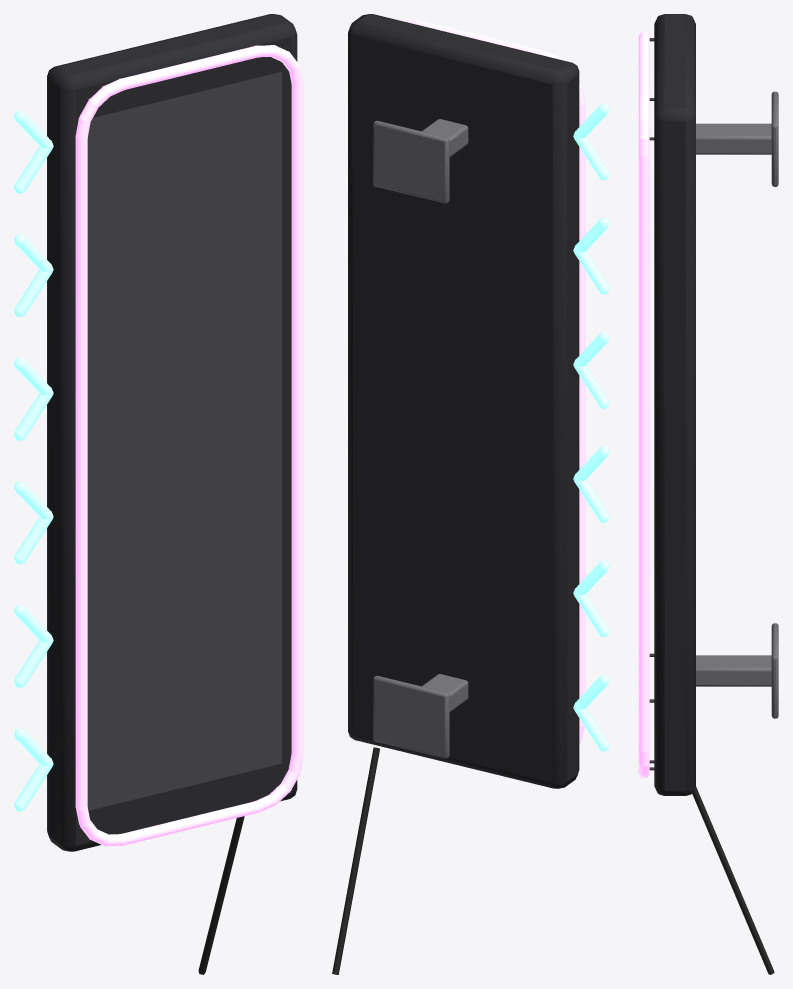
The model's file is neon_blade_a.glb.
3 views of the same model, side by side, from view 1: azimuth 30°, elevation 25°; view 2: azimuth 150°, elevation 25°; view 3: azimuth 270°, elevation 25° (orthographic). The views are drawn at different scales.
Visible parts, largest first — view 1: neon_blade_a; view 2: neon_blade_a; view 3: neon_blade_a.
Part boxes in pixels (x1,y1,x2,y2): neon_blade_a: (14,14,303,974); neon_blade_a: (332,14,609,974); neon_blade_a: (638,14,778,974).
Bounding box in the file's own units: 0.8168 × 2.8 × 0.4068.
